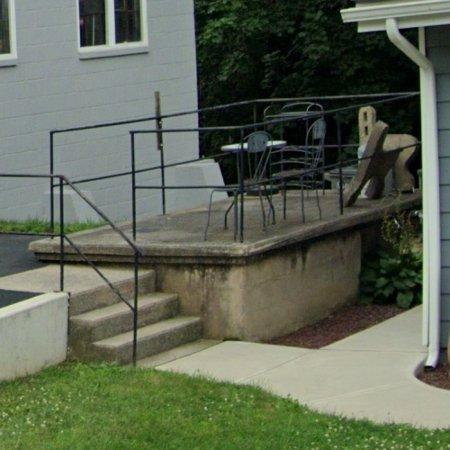stairs: (67, 267, 132, 364), (138, 270, 202, 360), (0, 266, 56, 292), (105, 268, 132, 298)
